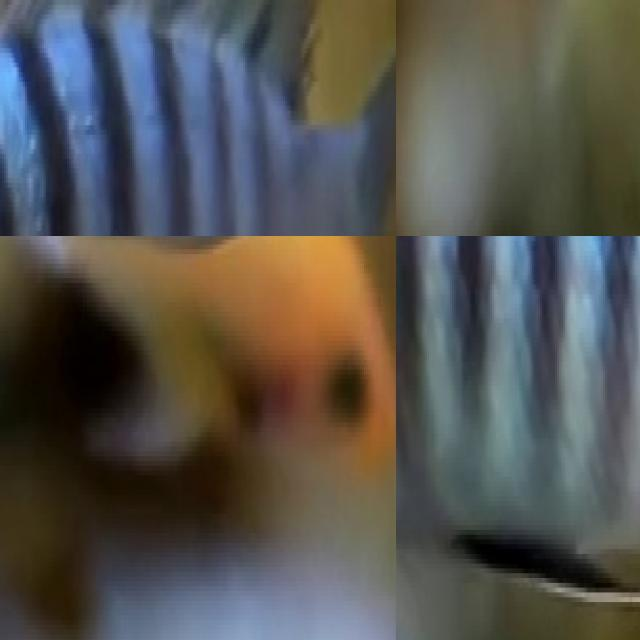fish: (0, 0, 396, 236), (396, 236, 640, 587)
